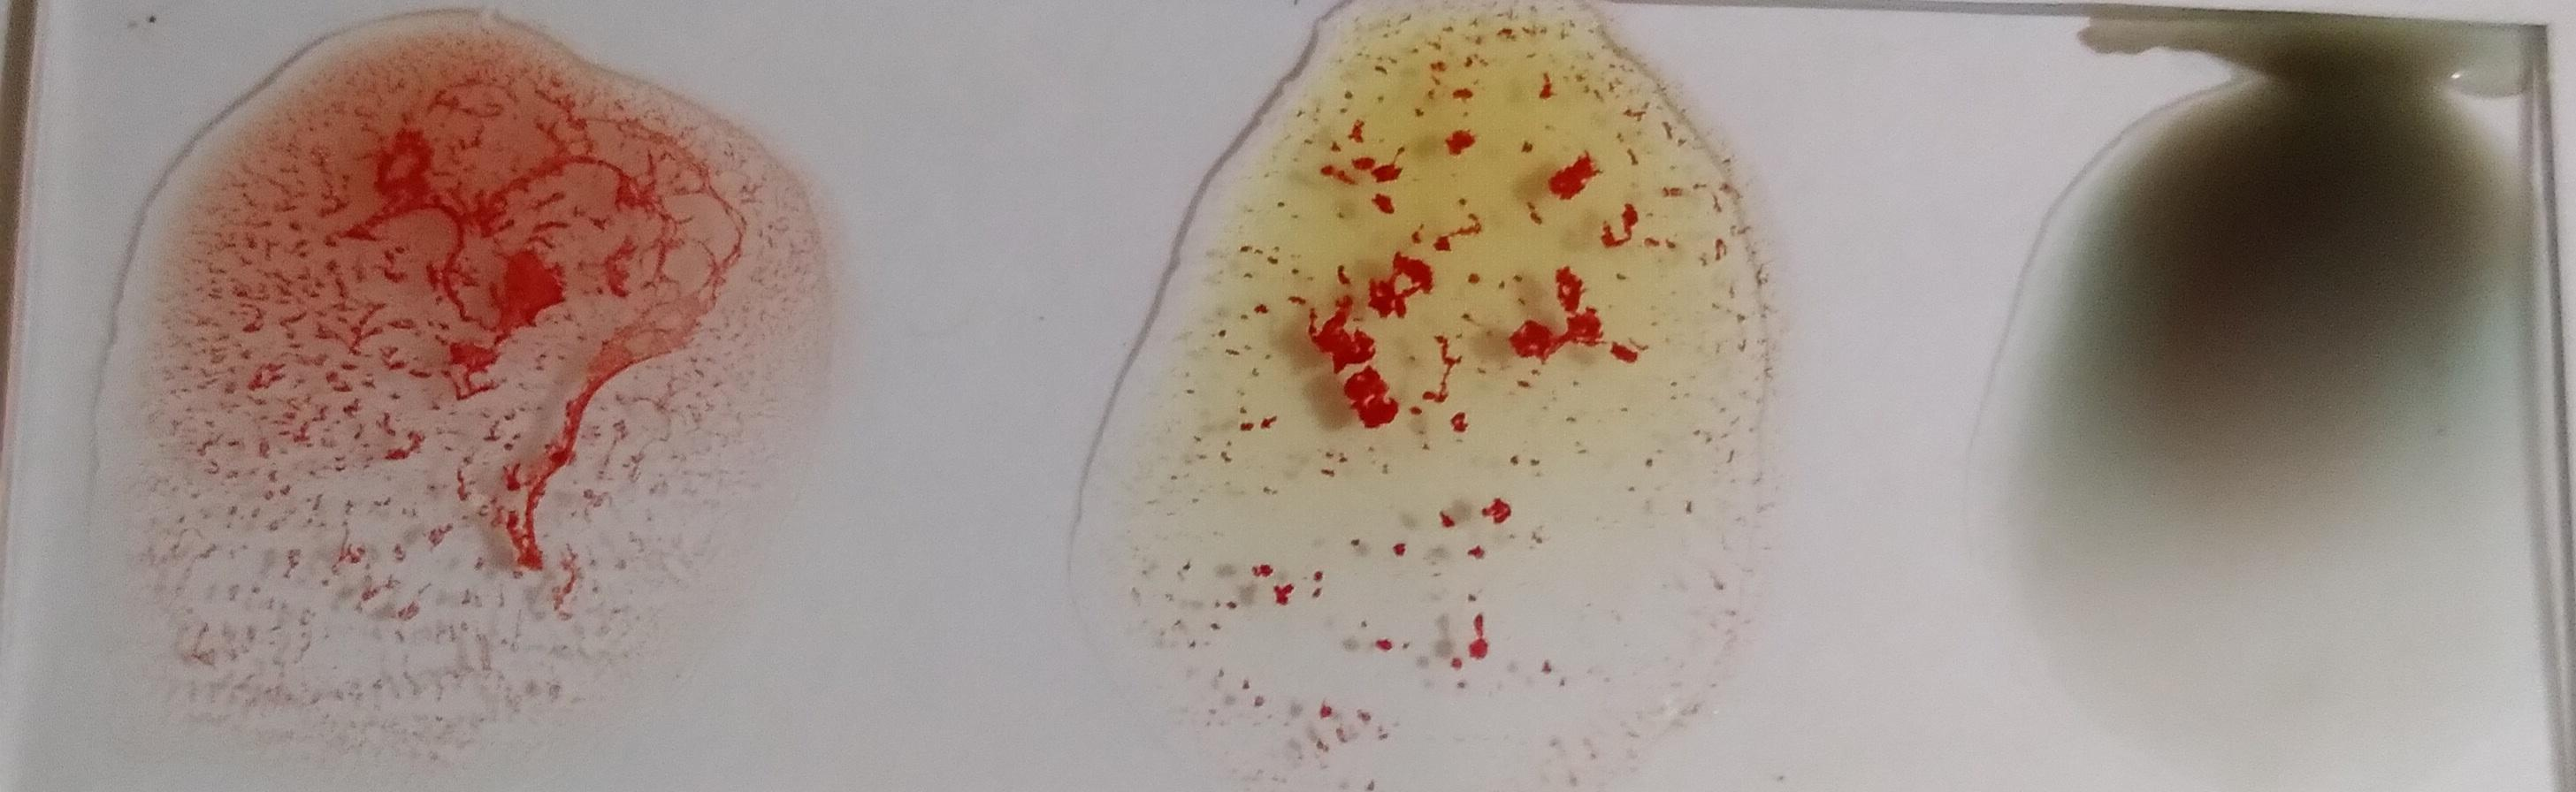B: (1138, 13, 1759, 784)
D: (94, 28, 718, 748)
